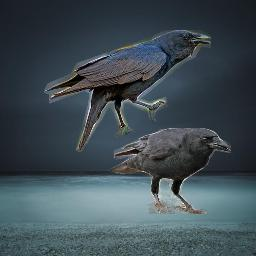Crow: (44, 30, 211, 152), (108, 128, 231, 214)
